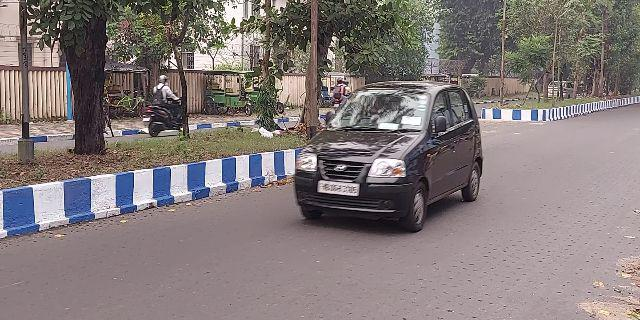Car: (291, 78, 489, 232)
Motorbike: (142, 75, 190, 140)
